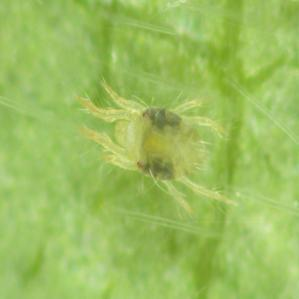spider mite: (55, 78, 253, 247)
